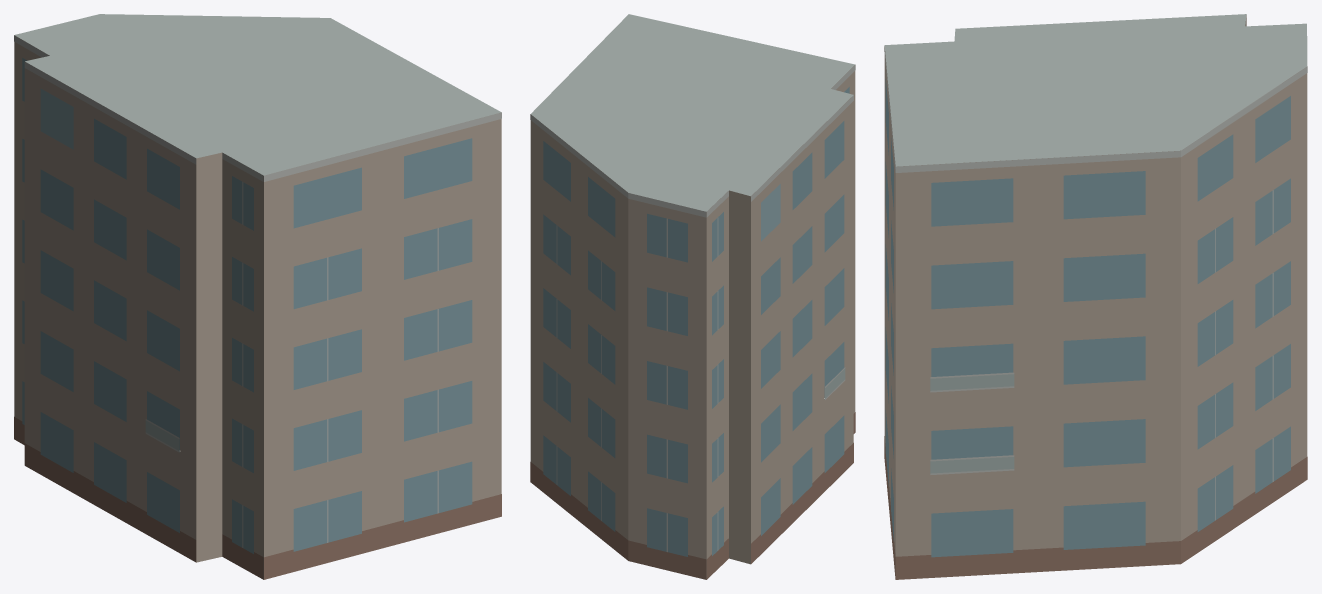
Rendered from survey-upis-32727390.glb.
3 views of the same model, side by side, from view 1: azimuth 30°, elevation 25°; view 2: azimuth 150°, elevation 25°; view 3: azimuth 270°, elevation 25° (orthographic). The views are drawn at different scales.
Parts seen in each view (by area): view 1: survey-upis-32727390.tmp; view 2: survey-upis-32727390.tmp; view 3: survey-upis-32727390.tmp.
Boxes of the visible parts, x1=… form: survey-upis-32727390.tmp: x1=14, y1=14, x2=501, y2=579; survey-upis-32727390.tmp: x1=530, y1=14, x2=855, y2=579; survey-upis-32727390.tmp: x1=884, y1=14, x2=1307, y2=579.
Bounding box in the file's own units: 12.08 × 15.25 × 14.15.
